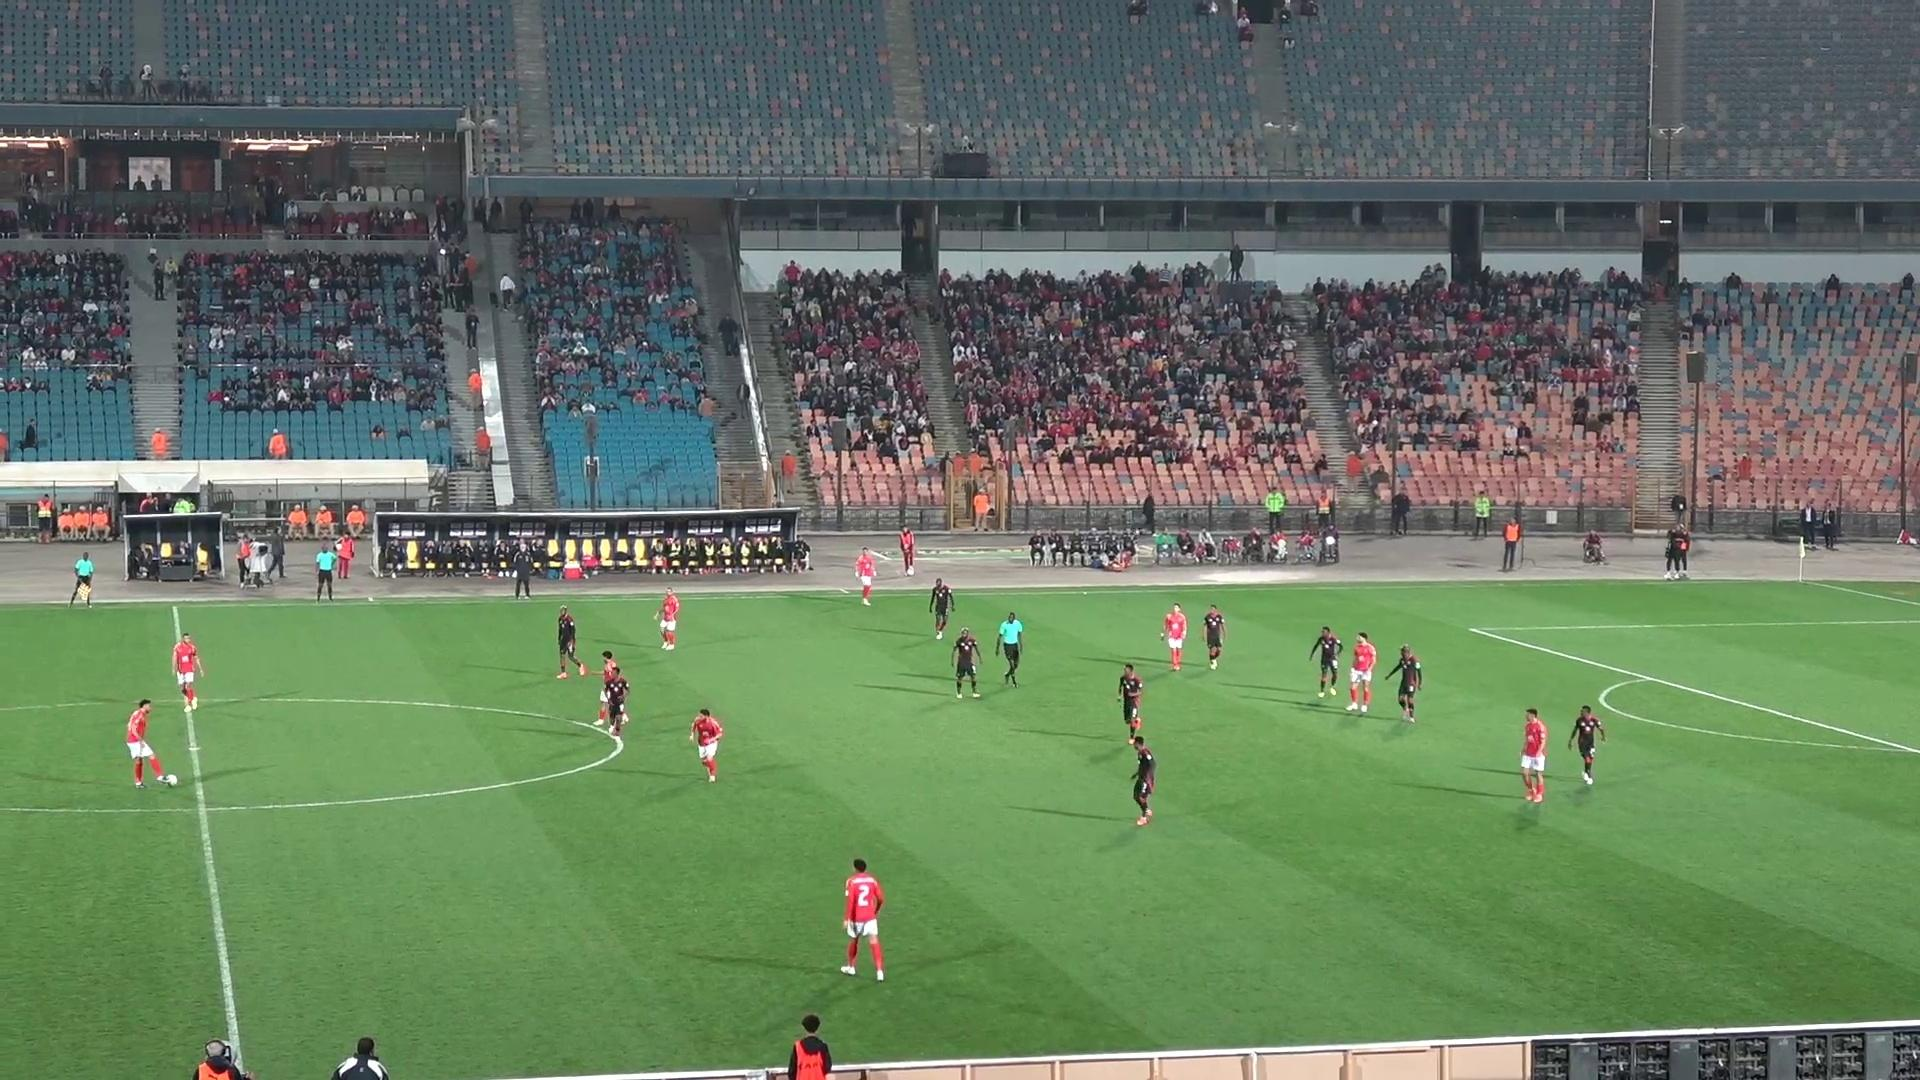Refree: (996, 612, 1025, 686), (66, 553, 94, 605)
Team1: (840, 858, 884, 980), (124, 699, 178, 786), (688, 709, 724, 781), (654, 588, 682, 651)
Team2: (1567, 705, 1606, 786), (592, 651, 629, 735), (1385, 644, 1422, 723), (555, 605, 591, 679), (1130, 737, 1156, 825), (1197, 605, 1226, 669), (927, 578, 956, 638)
